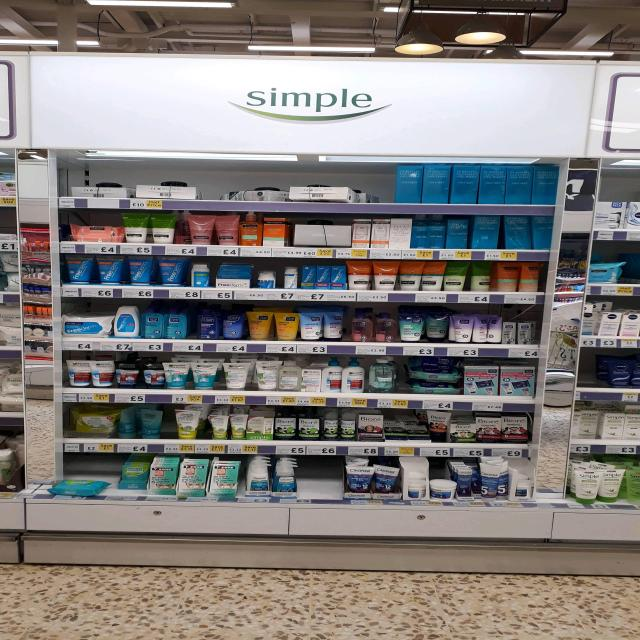empty: (297, 457, 345, 499), (376, 168, 393, 204)
